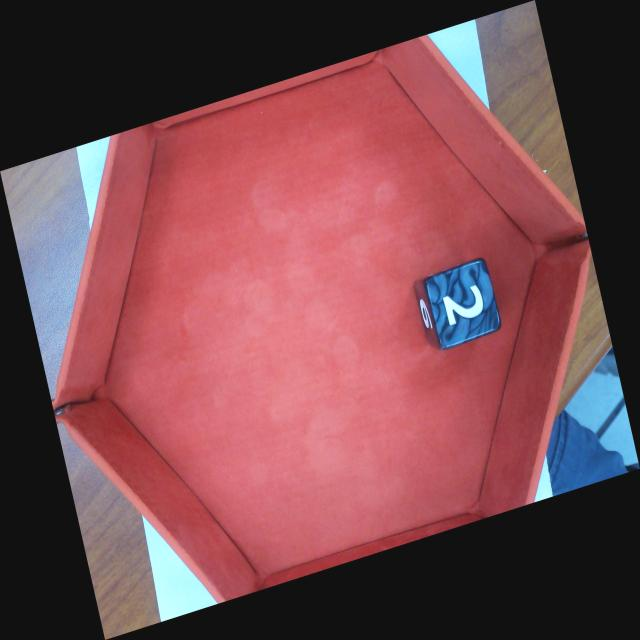dice: (424, 258, 502, 350)
